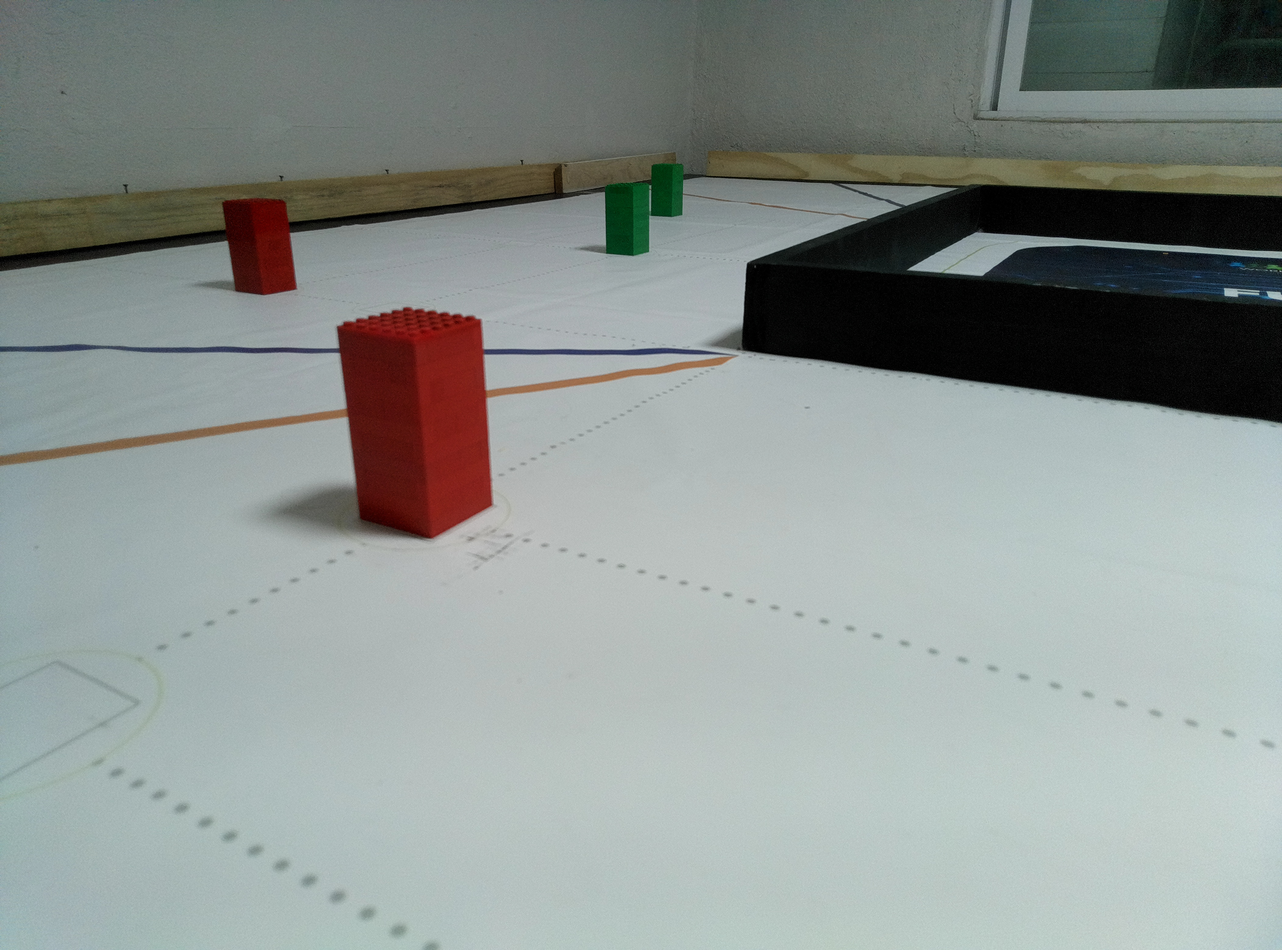greenbox: (605, 182, 649, 255), (651, 163, 684, 217)
redbox: (333, 306, 493, 539), (221, 197, 299, 296)
